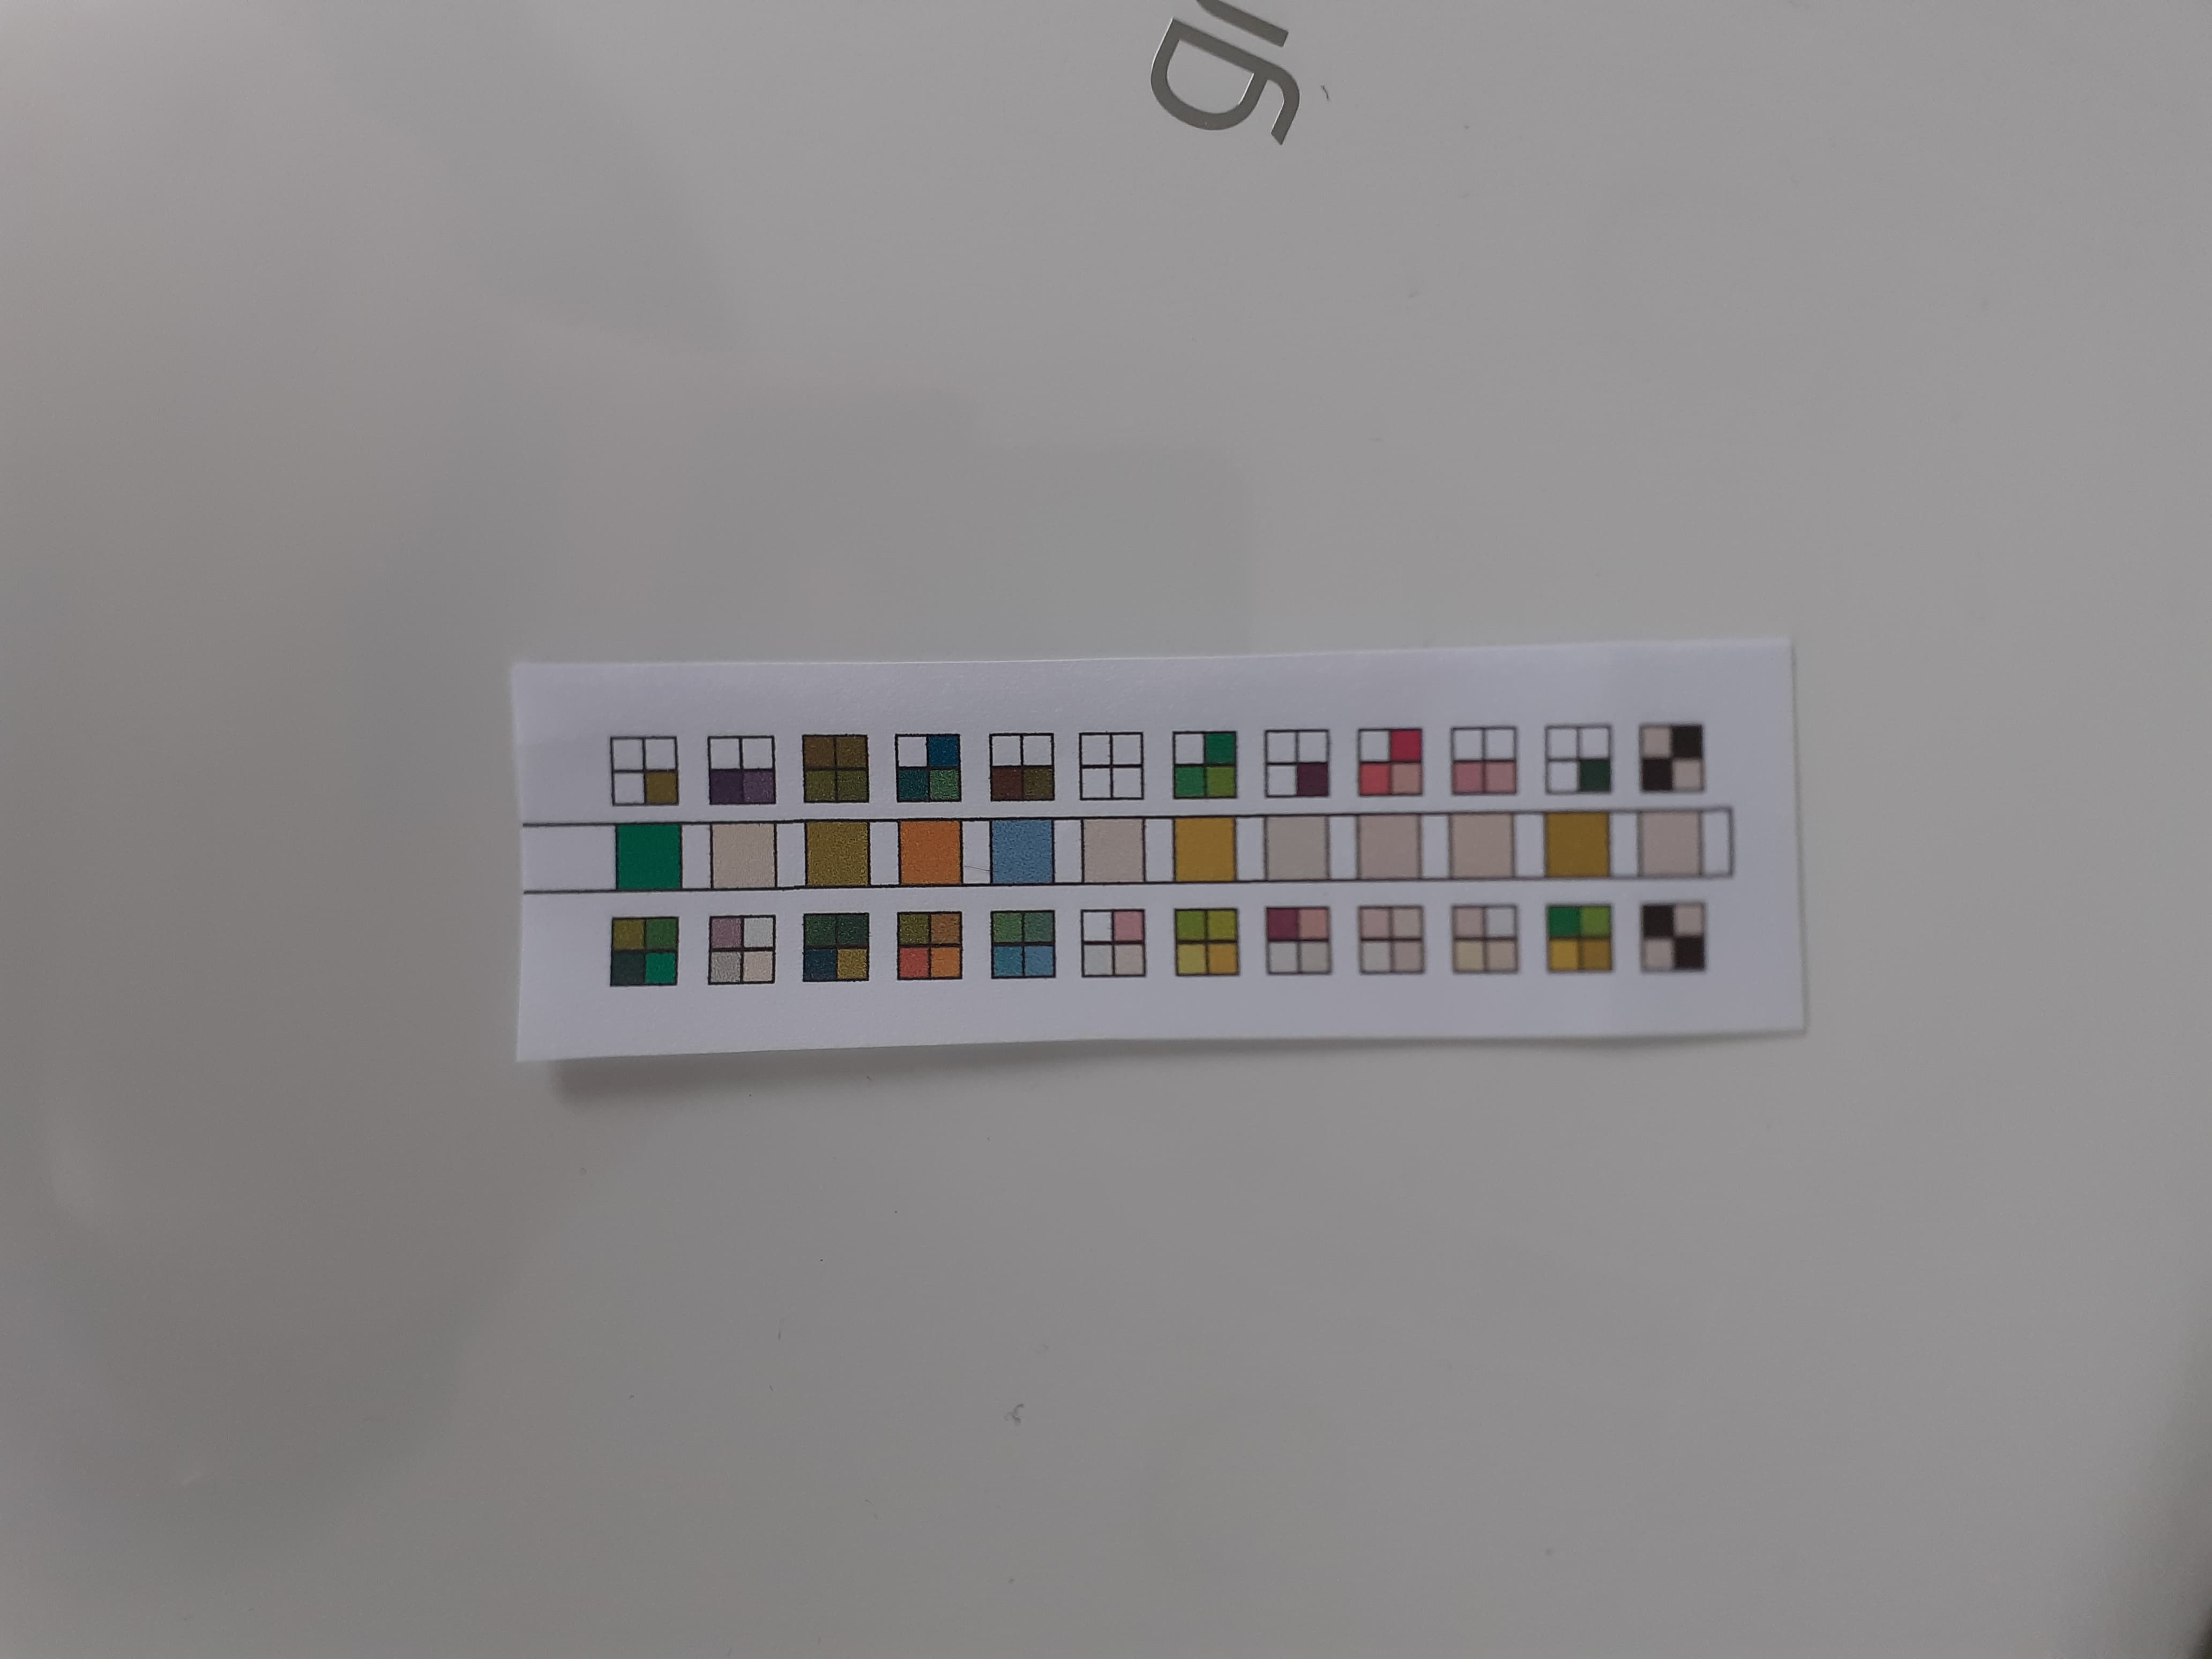tester: (510, 653, 1804, 1044)
